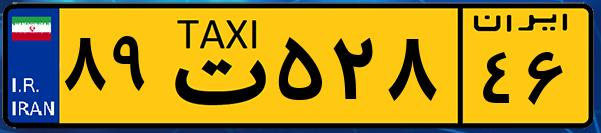2: (330, 28, 385, 110)
4: (475, 38, 525, 113)
5: (270, 28, 330, 110)
6: (525, 38, 570, 115)
8: (385, 28, 445, 110), (57, 26, 110, 100)
9: (110, 28, 158, 98)
ت: (158, 12, 270, 120)
